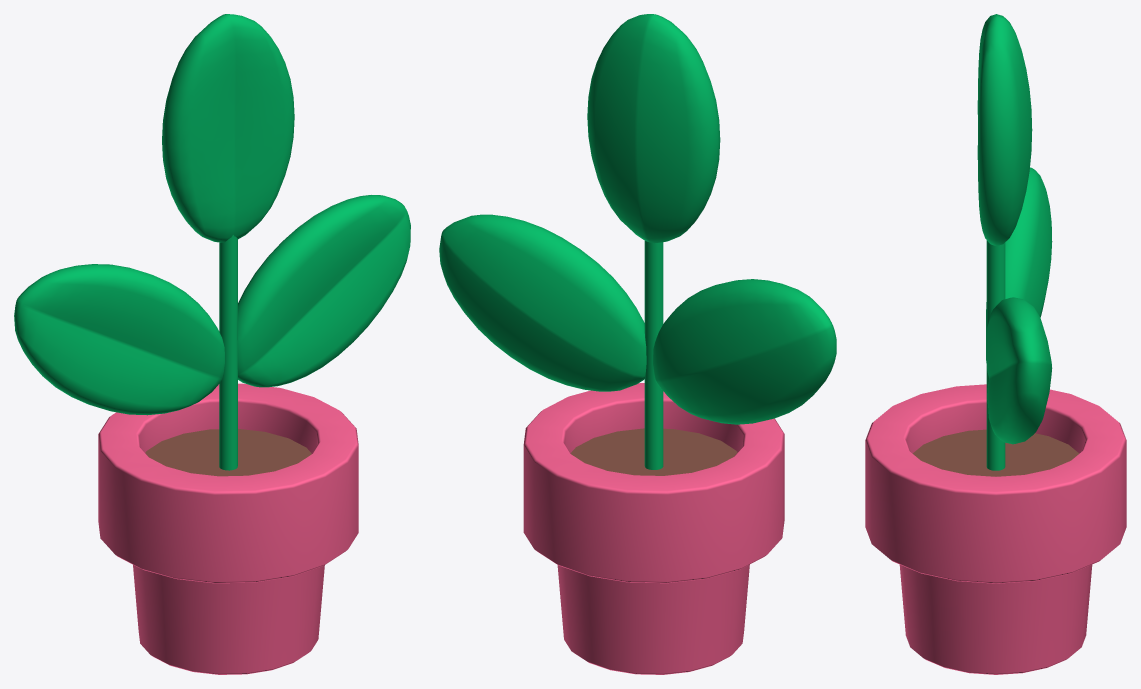
File: Town_15_Plant_3.glb
3 views of the same model, side by side, from view 1: azimuth 30°, elevation 25°; view 2: azimuth 150°, elevation 25°; view 3: azimuth 270°, elevation 25° (orthographic).
Parts seen in each view (by area): view 1: Town_15_Plant_3; view 2: Town_15_Plant_3; view 3: Town_15_Plant_3.
Boxes of the visible parts, x1,y1,x2,y2 form: Town_15_Plant_3: (14,14,410,674); Town_15_Plant_3: (439,14,836,674); Town_15_Plant_3: (865,14,1126,674).
Bounding box in the file's own units: 0.6819 × 1.03 × 0.3929.
Materials: 1 (1 with a texture image).
